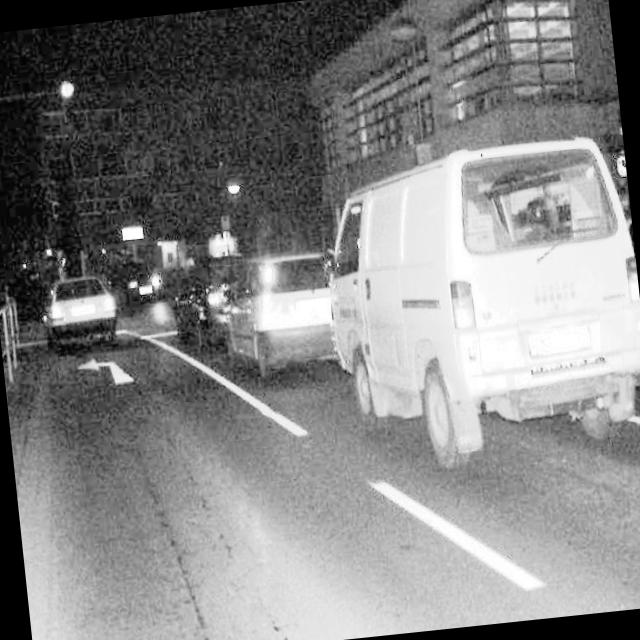Car: (322, 163, 640, 470), (198, 197, 358, 376), (8, 239, 128, 378)
